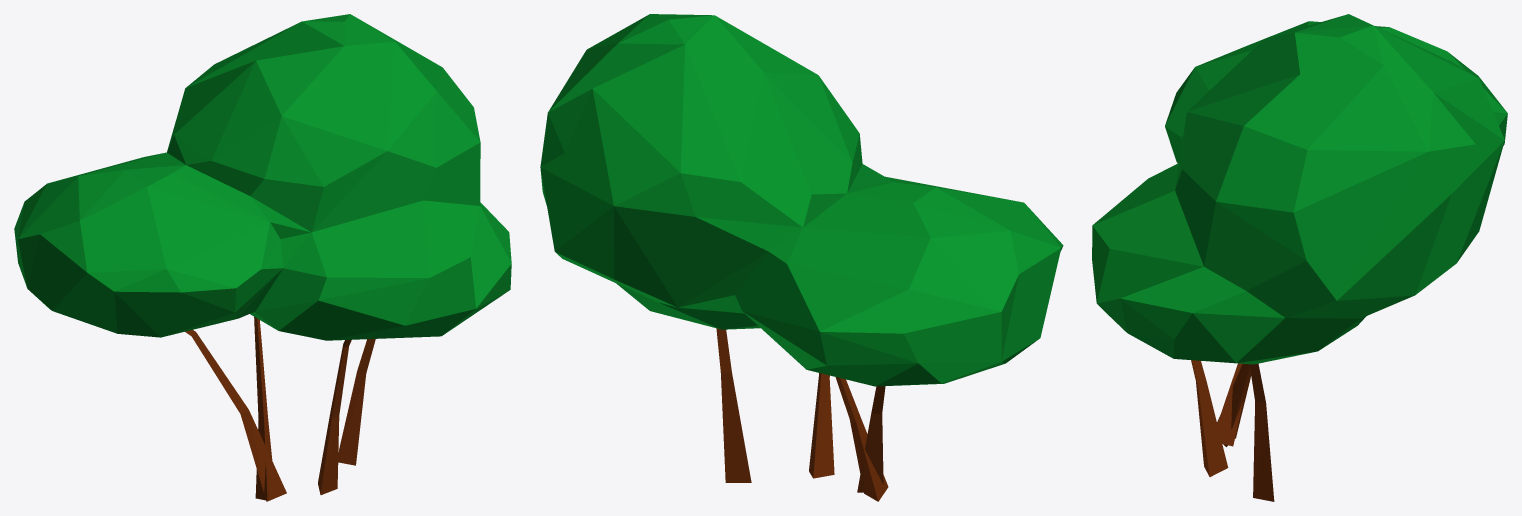
Rendered from TreeBush04.fbx.
3 renders of one model, left to right at view 1: azimuth 30°, elevation 25°; view 2: azimuth 150°, elevation 25°; view 3: azimuth 270°, elevation 25°, orthographic. The views are drawn at different scales.
Visible parts, largest first — view 1: Bush04; view 2: Bush04; view 3: Bush04.
Part boxes in pixels (x1=…): Bush04: x1=14, y1=14, x2=511, y2=501; Bush04: x1=540, y1=14, x2=1063, y2=501; Bush04: x1=1092, y1=14, x2=1507, y2=501.
Bounding box in the file's own units: 81.25 × 75.72 × 59.88.
